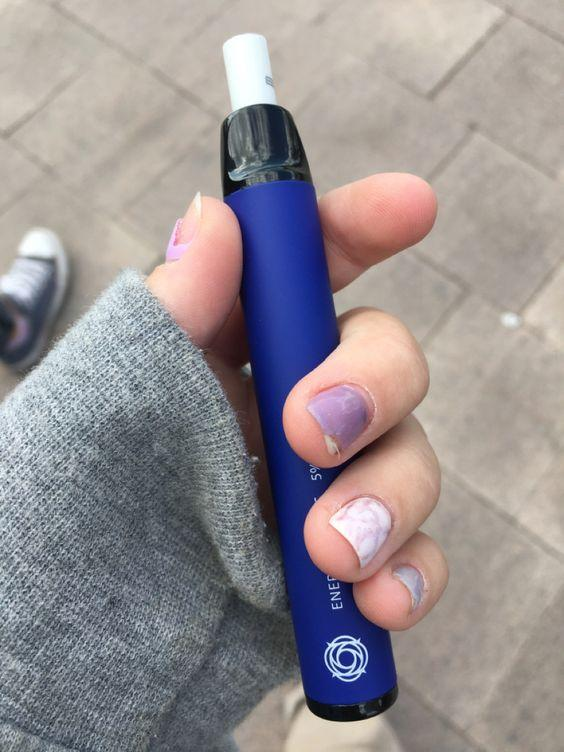iqos: (221, 33, 395, 720)
